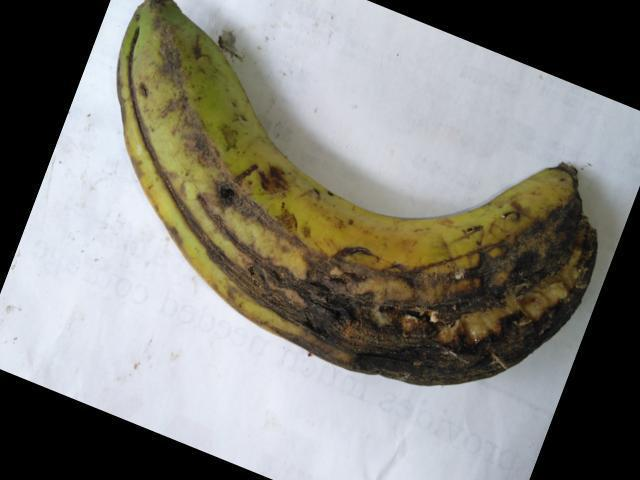rotten: (110, 69, 622, 408)
